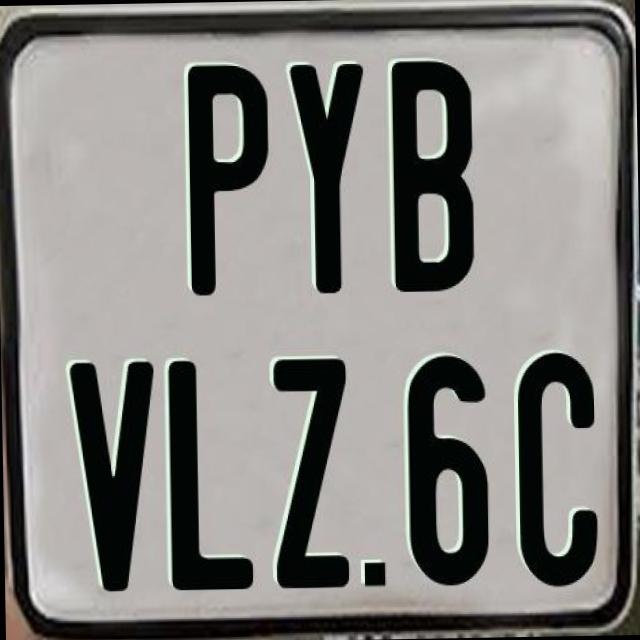6: (403, 351, 487, 592)
B: (387, 56, 473, 298)
C: (514, 349, 604, 584)
L: (165, 355, 256, 587)
P: (184, 62, 276, 294)
V: (66, 356, 162, 593)
Y: (288, 64, 367, 296)
Z: (270, 358, 346, 598)
